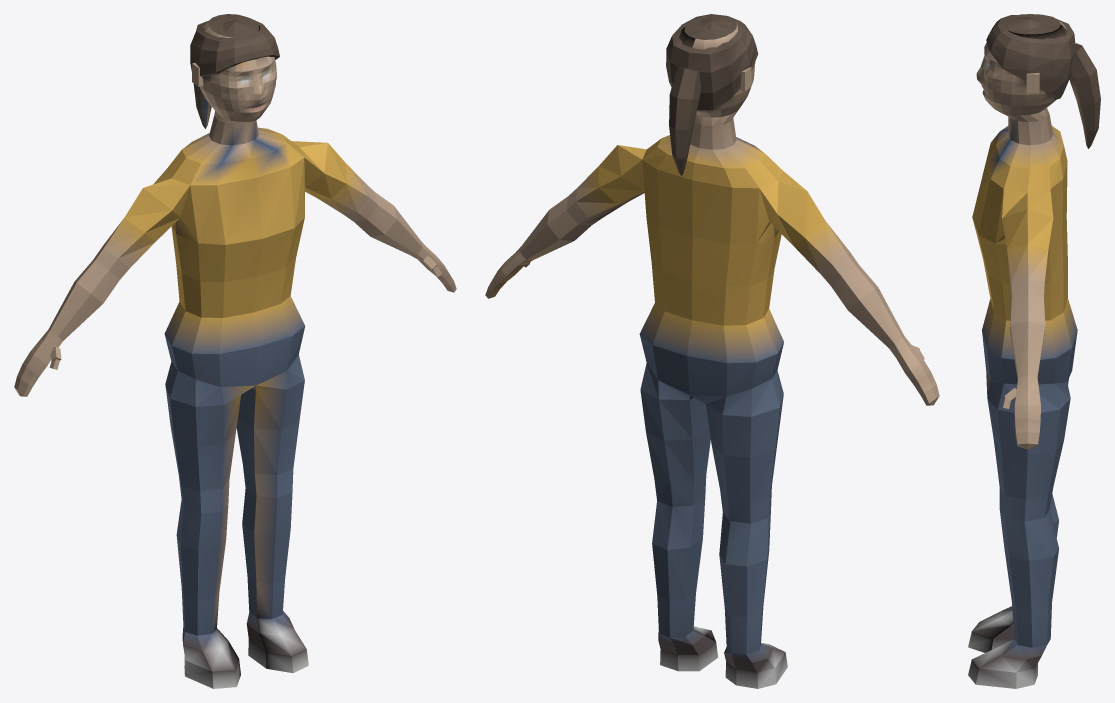
Rendered from char__pessoa__rosa.glb.
3 renders of one model, left to right at view 1: azimuth 30°, elevation 25°; view 2: azimuth 150°, elevation 25°; view 3: azimuth 270°, elevation 25°, orthographic. The views are drawn at different scales.
Parts seen in each view (by area): view 1: char__pessoa__rosa; view 2: char__pessoa__rosa; view 3: char__pessoa__rosa.
Boxes of the visible parts, box(x1,y1,x2,y2) form: char__pessoa__rosa: box(14, 14, 456, 688); char__pessoa__rosa: box(485, 14, 939, 688); char__pessoa__rosa: box(968, 14, 1100, 688).
Bounding box in the file's own units: 1.14 × 1.61 × 0.2999.
